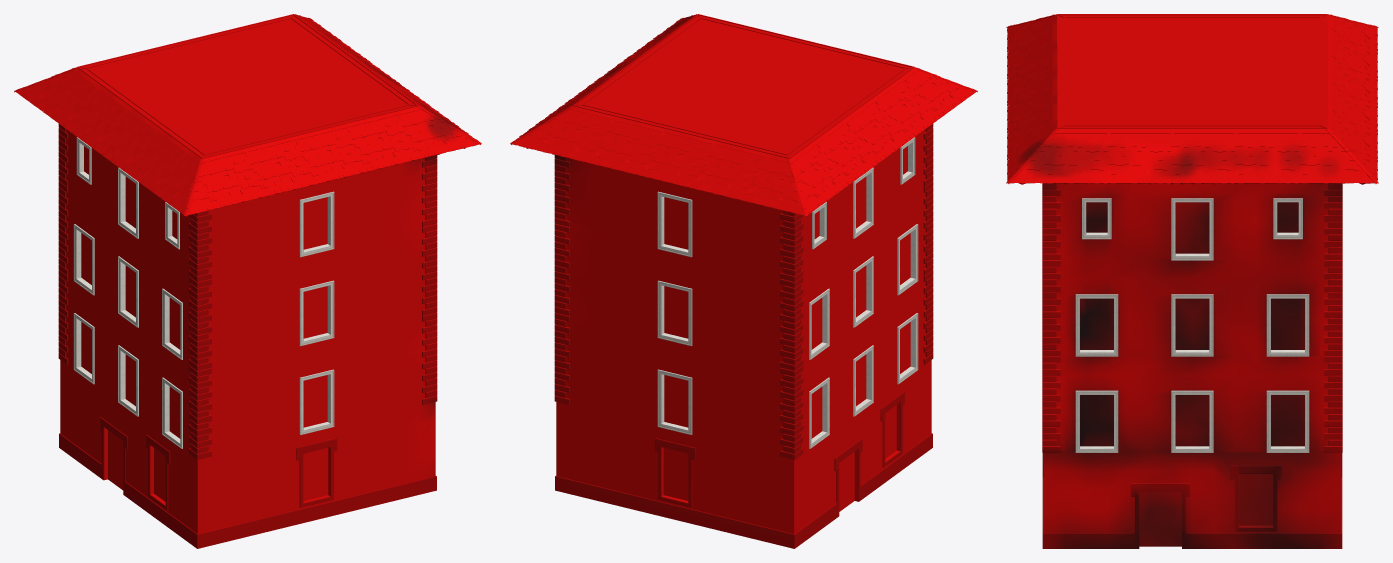
Rendered from Building_08_a_merged.fbx.
3 renders of one model, left to right at view 1: azimuth 30°, elevation 25°; view 2: azimuth 150°, elevation 25°; view 3: azimuth 270°, elevation 25°, orthographic. The views are drawn at different scales.
Parts seen in each view (by area): view 1: Building_08_a_merged; view 2: Building_08_a_merged; view 3: Building_08_a_merged.
Part boxes in pixels (left/top/right/bottom): Building_08_a_merged: left=14, top=14, right=481, bottom=548; Building_08_a_merged: left=510, top=14, right=977, bottom=548; Building_08_a_merged: left=1006, top=14, right=1378, bottom=548.
Bounding box in the file's own units: 1755 × 2154 × 1755.
